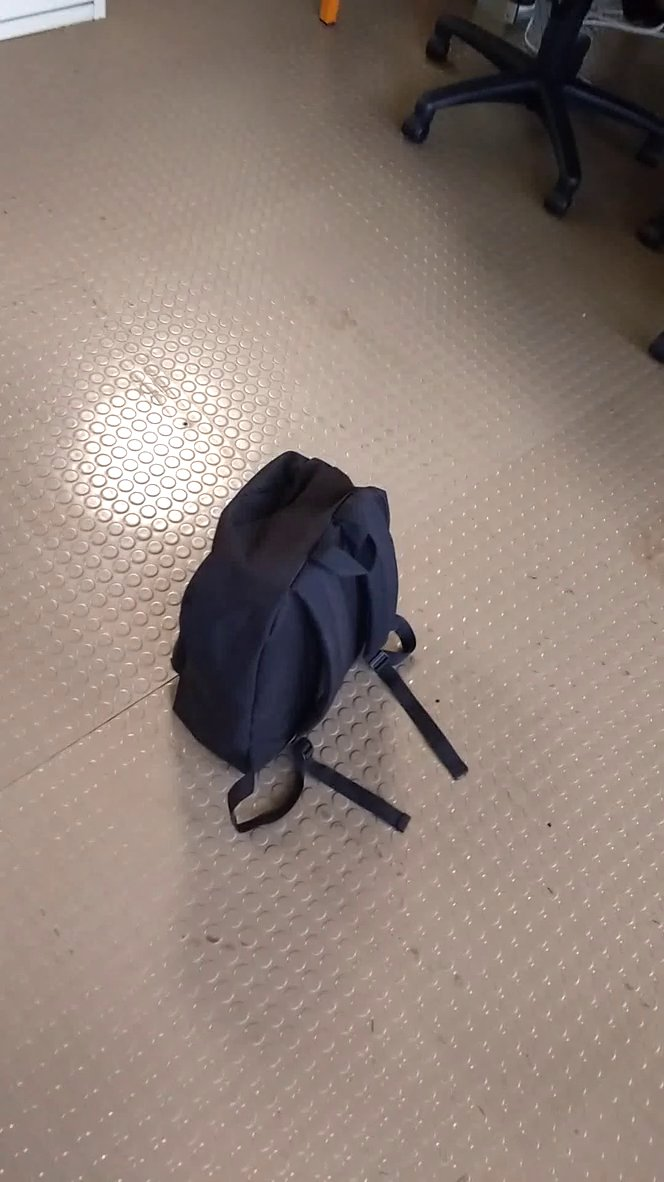bag: (158, 441, 482, 845)
